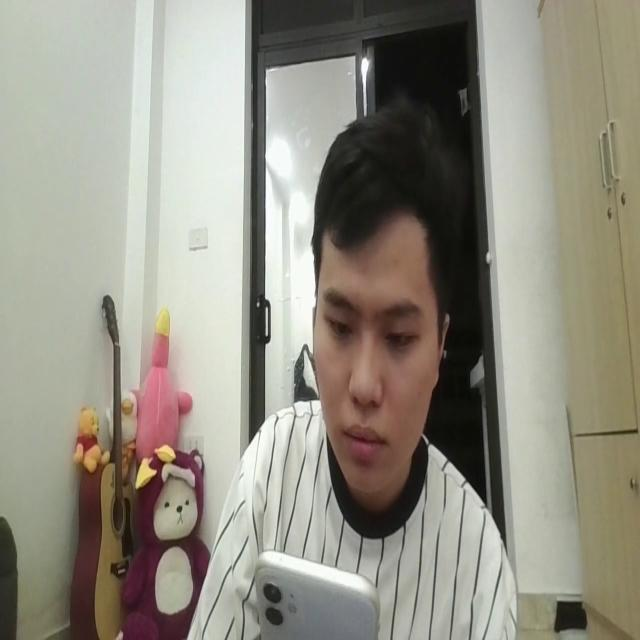phone: (251, 539, 378, 640)
student: (184, 93, 516, 640)
